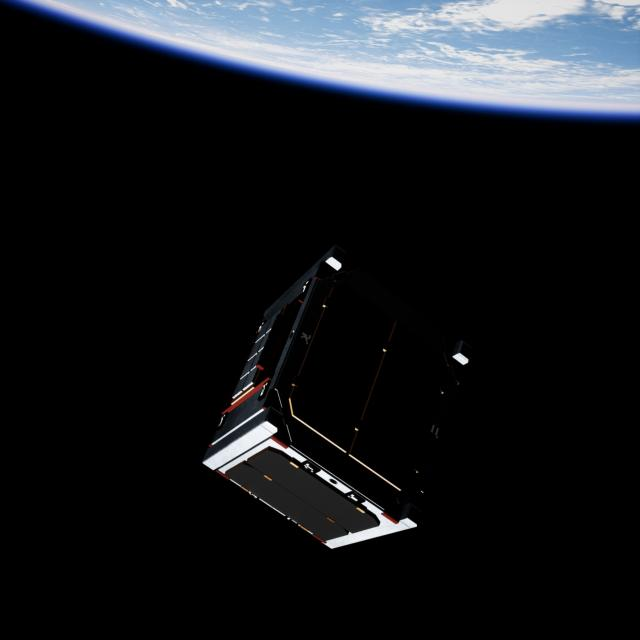satellite: (205, 245, 493, 562)
